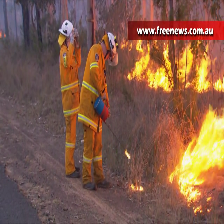fire_h: (169, 106, 224, 213), (127, 40, 224, 92)
fire_l: (120, 39, 133, 51), (130, 184, 143, 191), (193, 204, 202, 214), (124, 150, 131, 160), (206, 194, 212, 202), (1, 31, 7, 37), (207, 206, 212, 212)
